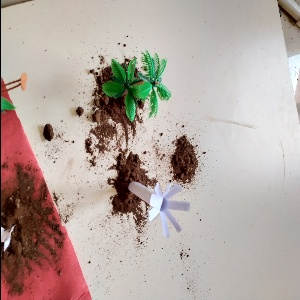plant: (87, 41, 184, 125)
weed: (120, 168, 187, 231)
